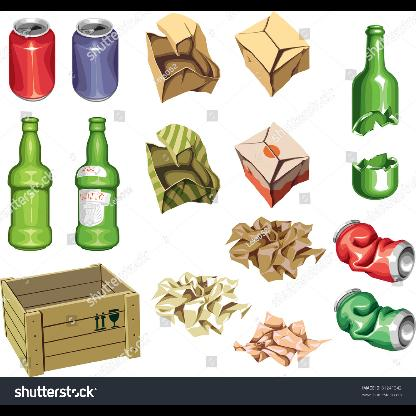Lid_Open: (78, 13, 108, 41), (19, 14, 45, 42)
Tin_Can: (70, 14, 122, 102), (7, 17, 57, 102)
